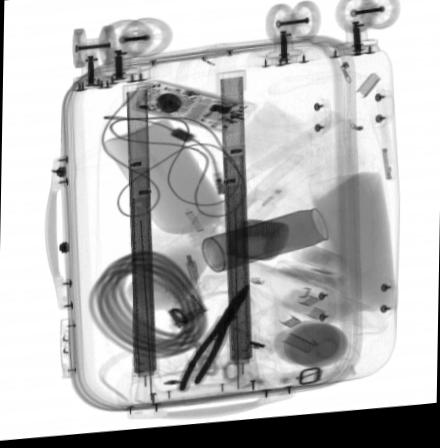Pliers: (175, 290, 248, 397)
